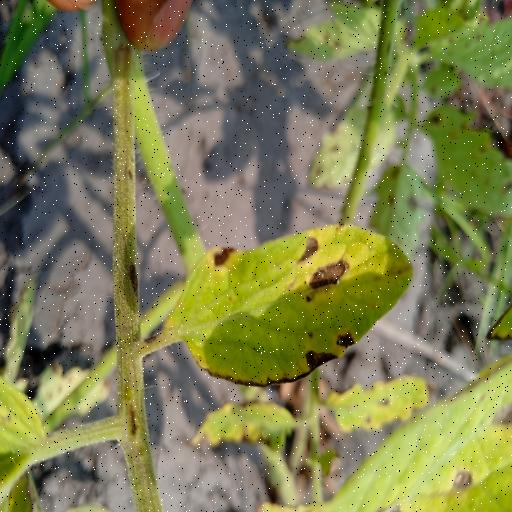Tomato_Brown_Spots: (166, 217, 418, 389)
